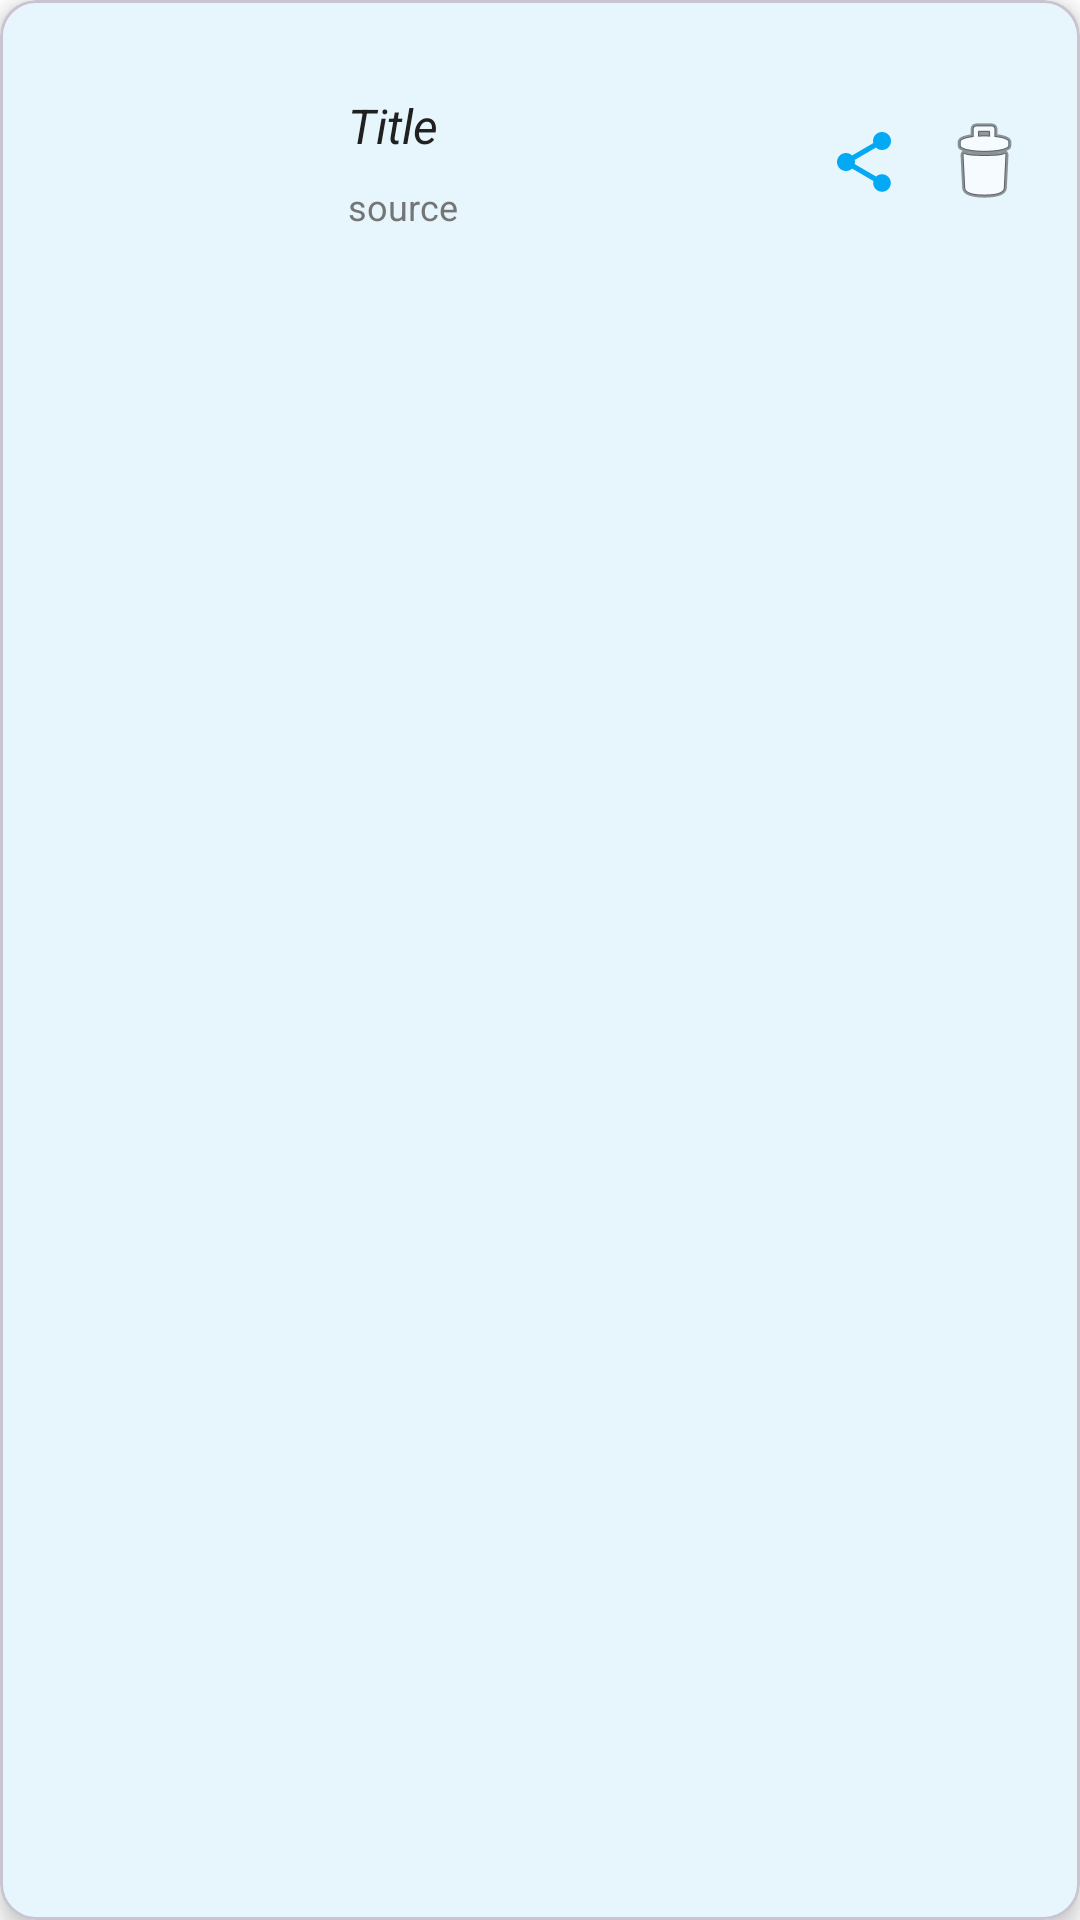

Where to tap for icons on this 1080px x 1920px app screen, as [x,y]:
Remove bookmark: [984,160]
Share article: [864,162]
